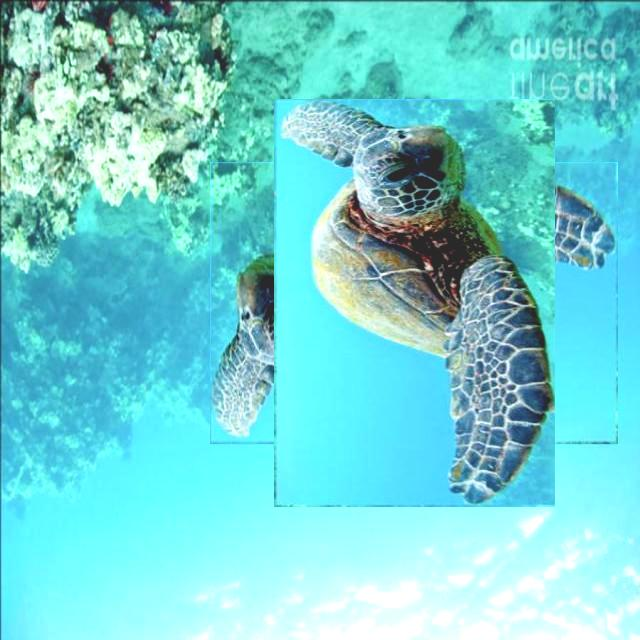Sea turtle: (242, 130, 586, 476)
